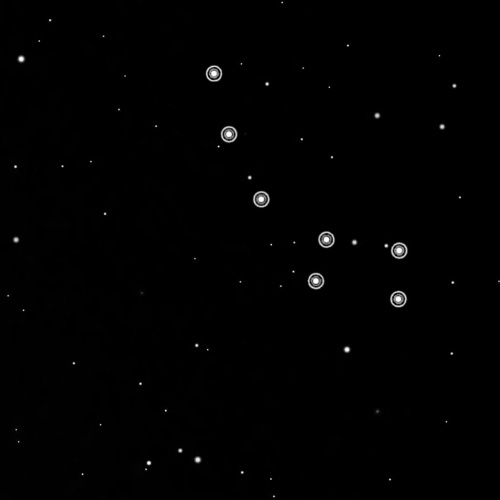ursa_minor: (196, 57, 415, 313)
